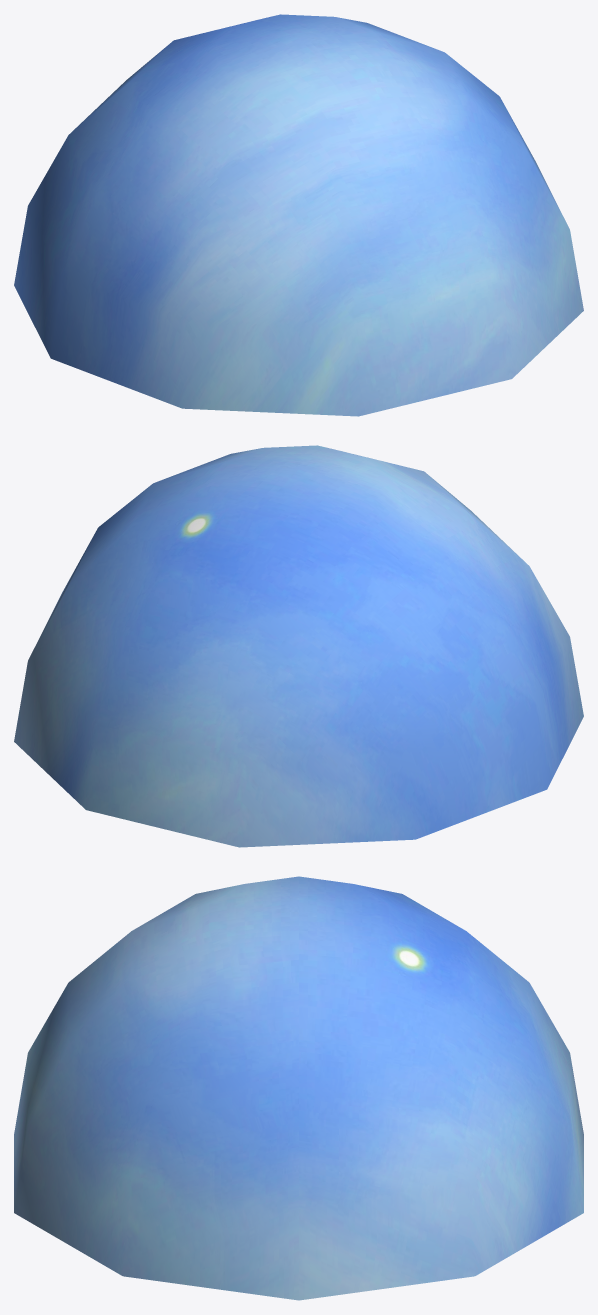
Rendered from scenenew2.dae.
3 views of the same model, one above another, from view 1: azimuth 30°, elevation 25°; view 2: azimuth 150°, elevation 25°; view 3: azimuth 270°, elevation 25° (orthographic). The views are drawn at different scales.
Visible parts, largest first — view 1: Sphere; view 2: Sphere; view 3: Sphere.
Part boxes in pixels (x1,y1,x2,y2): Sphere: [14, 14, 583, 416]; Sphere: [14, 445, 583, 847]; Sphere: [14, 876, 583, 1300].
Size of the model in its own units: 21.98 by 20.9 by 10.99.
